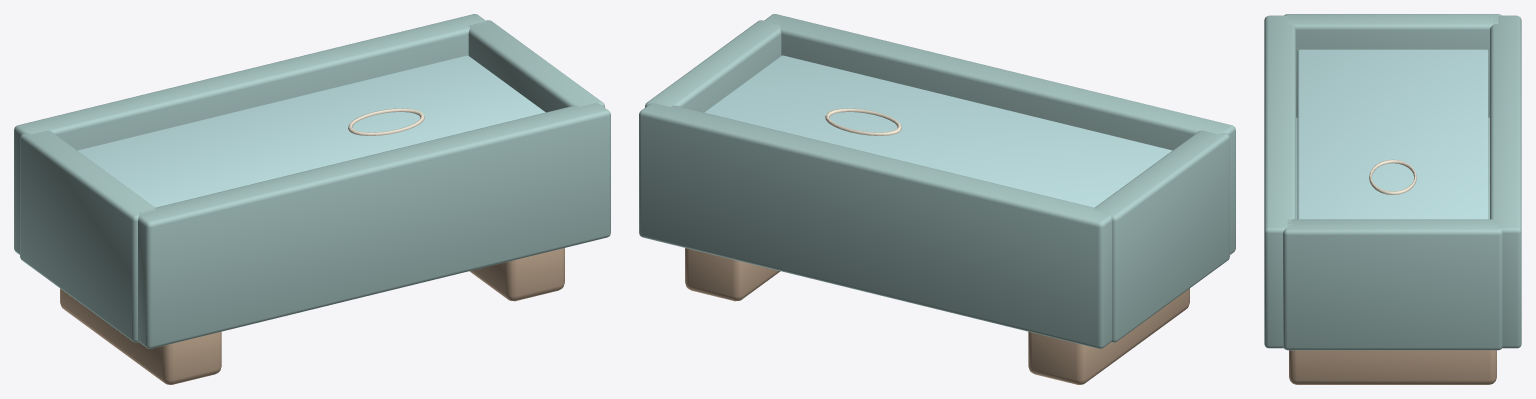
The model's file is water-trough-full.glb.
3 views of the same model, side by side, from view 1: azimuth 30°, elevation 25°; view 2: azimuth 150°, elevation 25°; view 3: azimuth 270°, elevation 25° (orthographic). The views are drawn at different scales.
Visible parts, largest first — view 1: Trough side, Water surface, Trough side.001, Trough end, Trough end.001, Rounded trough foot, Rounded trough foot.001, Quiet ripple; view 2: Trough side.001, Water surface, Trough side, Trough end, Trough end.001, Rounded trough foot, Rounded trough foot.001, Quiet ripple; view 3: Water surface, Trough end.001, Trough side.001, Trough side, Trough end, Rounded trough foot.001, Quiet ripple, Trough floor.
Part boxes in pixels (x1,y1,x2,y2): Trough side: (138, 103, 610, 348); Water surface: (77, 55, 545, 207); Trough side.001: (14, 14, 485, 254); Trough end: (20, 130, 155, 342); Trough end.001: (468, 20, 604, 112); Rounded trough foot: (60, 288, 221, 384); Rounded trough foot.001: (469, 248, 564, 301); Quiet ripple: (348, 108, 424, 135); Trough side.001: (639, 103, 1111, 348); Water surface: (704, 55, 1172, 207); Trough side: (764, 14, 1235, 254); Trough end: (1094, 130, 1229, 342); Trough end.001: (645, 20, 781, 112); Rounded trough foot: (1028, 288, 1189, 384); Rounded trough foot.001: (685, 248, 780, 301); Quiet ripple: (825, 108, 901, 135); Water surface: (1297, 49, 1488, 219); Trough end.001: (1283, 219, 1502, 350); Trough side.001: (1490, 15, 1521, 348); Trough side: (1264, 15, 1295, 348); Trough end: (1284, 14, 1501, 117); Rounded trough foot.001: (1289, 350, 1496, 384); Quiet ripple: (1369, 159, 1416, 194); Trough floor: (1296, 117, 1489, 219).
Bounding box in the file's own units: 1.79 × 0.66 × 0.89.
